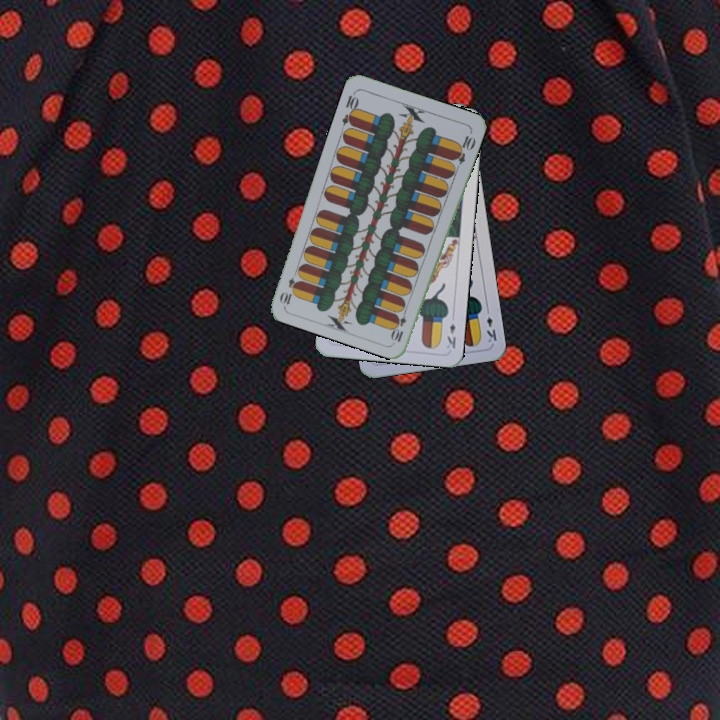E10: (338, 88, 361, 128), (389, 304, 410, 345)
EK: (482, 304, 499, 345), (442, 319, 458, 351)
